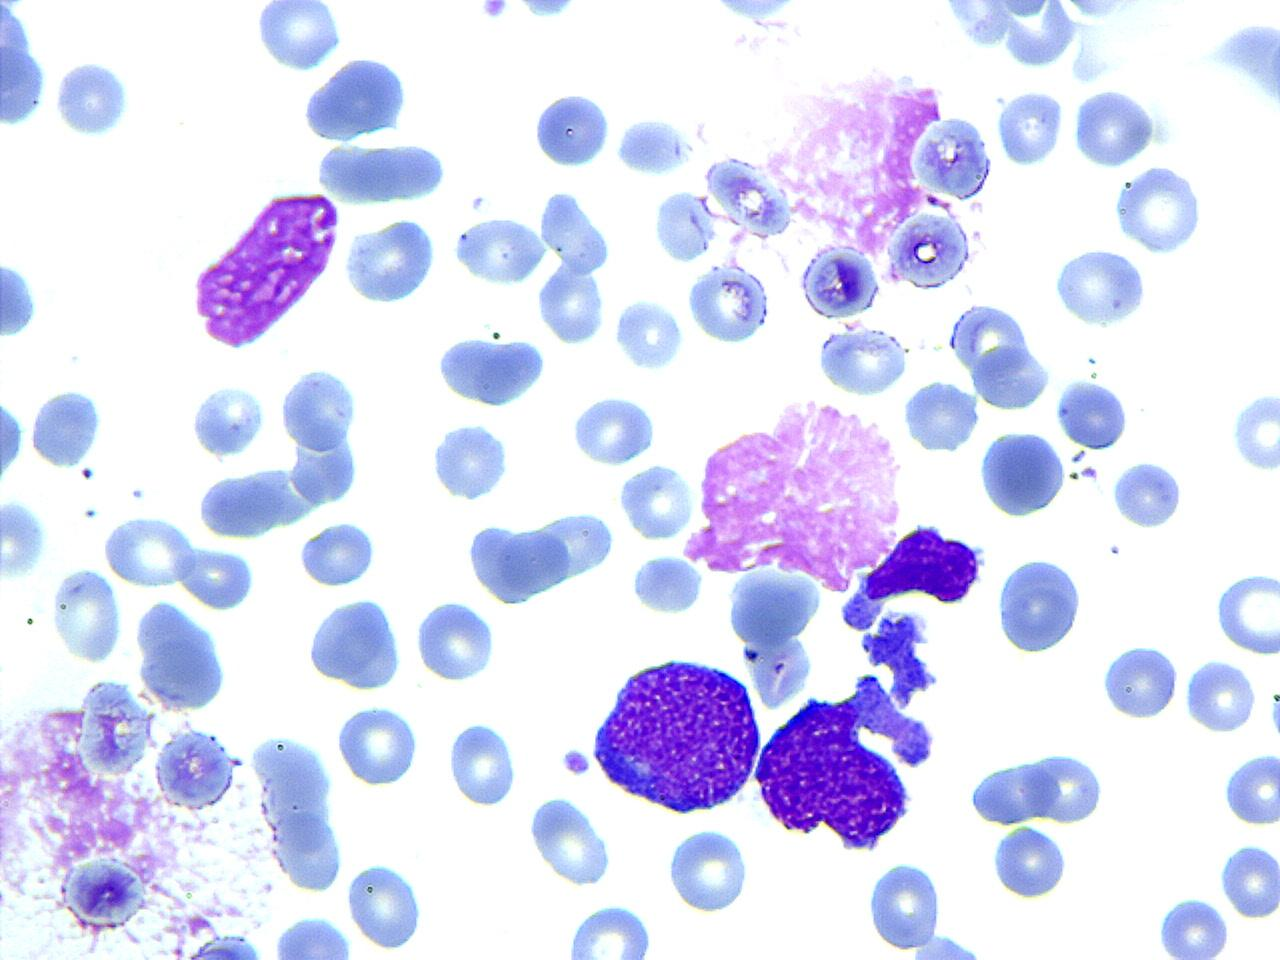Platelets: (1070, 85, 1164, 167), (50, 60, 131, 141), (994, 88, 1065, 168), (612, 296, 685, 372), (1156, 893, 1232, 960), (1217, 842, 1279, 922), (612, 116, 692, 178), (626, 552, 702, 616), (1207, 20, 1277, 88), (1230, 388, 1280, 476), (0, 497, 49, 581), (0, 260, 40, 341), (0, 392, 25, 488), (712, 0, 800, 23), (1258, 27, 1280, 116), (1069, 48, 1113, 86), (515, 1, 577, 20), (560, 746, 594, 778), (1148, 114, 1174, 148), (1267, 688, 1280, 742), (478, 1, 510, 22), (1079, 465, 1101, 482), (79, 466, 95, 480), (82, 506, 97, 520), (458, 223, 471, 239)
RBC: (152, 723, 241, 811), (704, 151, 790, 242), (102, 510, 198, 590), (866, 857, 944, 953), (334, 702, 420, 787), (345, 859, 424, 951), (49, 567, 124, 663), (1070, 88, 1158, 169), (914, 113, 994, 202), (892, 206, 974, 290), (531, 508, 618, 583), (616, 460, 695, 542), (800, 241, 881, 320), (991, 820, 1067, 902), (968, 343, 1055, 414), (610, 295, 686, 372), (994, 87, 1066, 167), (175, 542, 257, 611), (1218, 838, 1280, 922), (270, 913, 354, 959)
WBC: (6, 678, 361, 958), (685, 382, 913, 646), (763, 57, 945, 261), (749, 684, 925, 851), (589, 652, 765, 816), (187, 182, 348, 356), (926, 0, 1141, 79), (530, 182, 614, 346), (131, 596, 233, 714), (305, 594, 408, 694), (465, 516, 574, 610), (340, 214, 442, 308), (302, 55, 410, 143), (433, 330, 550, 411), (994, 552, 1084, 656), (976, 424, 1071, 520), (1112, 159, 1204, 258), (193, 468, 309, 544), (1051, 245, 1149, 331), (322, 139, 450, 204), (664, 822, 752, 916), (526, 794, 614, 887), (864, 858, 947, 953), (684, 258, 770, 348), (343, 858, 426, 951), (101, 512, 197, 592), (914, 111, 994, 205), (280, 362, 360, 455), (50, 566, 125, 664), (334, 702, 419, 788), (1070, 88, 1158, 171), (815, 322, 911, 398), (451, 213, 548, 288), (414, 598, 498, 684), (430, 417, 510, 504), (568, 391, 658, 467), (446, 718, 520, 810), (893, 206, 972, 292), (966, 758, 1062, 828), (0, 0, 50, 133), (254, 0, 345, 73), (532, 88, 611, 172), (1100, 643, 1182, 723), (617, 460, 695, 544), (29, 384, 107, 468), (272, 806, 346, 894), (187, 379, 266, 461), (533, 509, 617, 585), (991, 824, 1071, 902), (798, 243, 879, 320), (902, 378, 982, 454), (1214, 566, 1280, 658), (969, 341, 1052, 414), (1053, 376, 1131, 453), (612, 293, 686, 374), (536, 264, 608, 347), (1183, 655, 1257, 735), (995, 85, 1065, 169), (1025, 749, 1103, 824), (297, 518, 378, 590), (561, 902, 658, 960), (1109, 458, 1183, 532), (628, 552, 702, 616), (1222, 748, 1280, 829), (0, 496, 50, 579), (269, 913, 355, 959), (0, 392, 26, 490)
